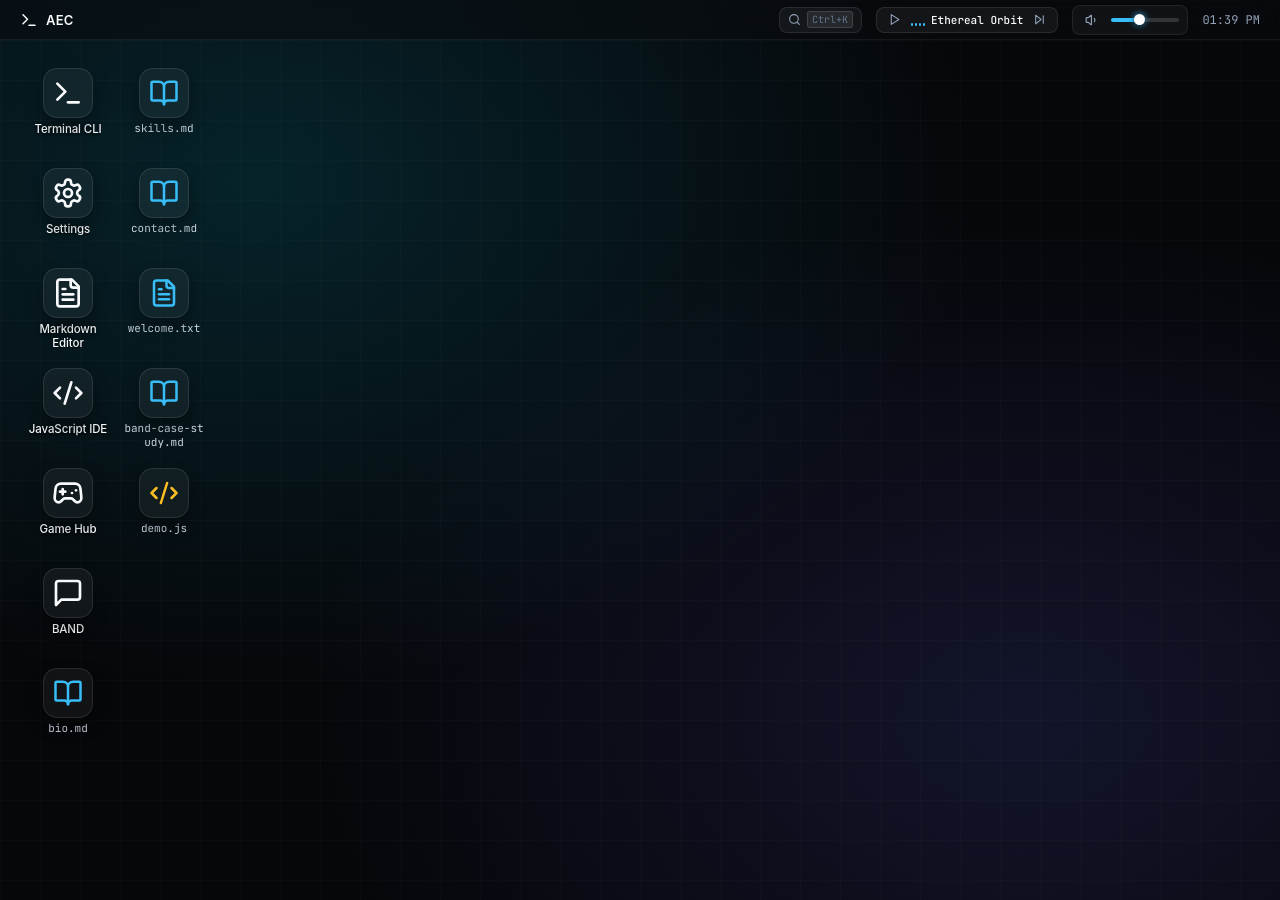
Desktop Component › should open context menu on right click and display Spatial Alert modal when attempting to delete protected system file
Right-click the button with test id "desktop-file-bio.md" at (68, 708), box [24,662,112,754]
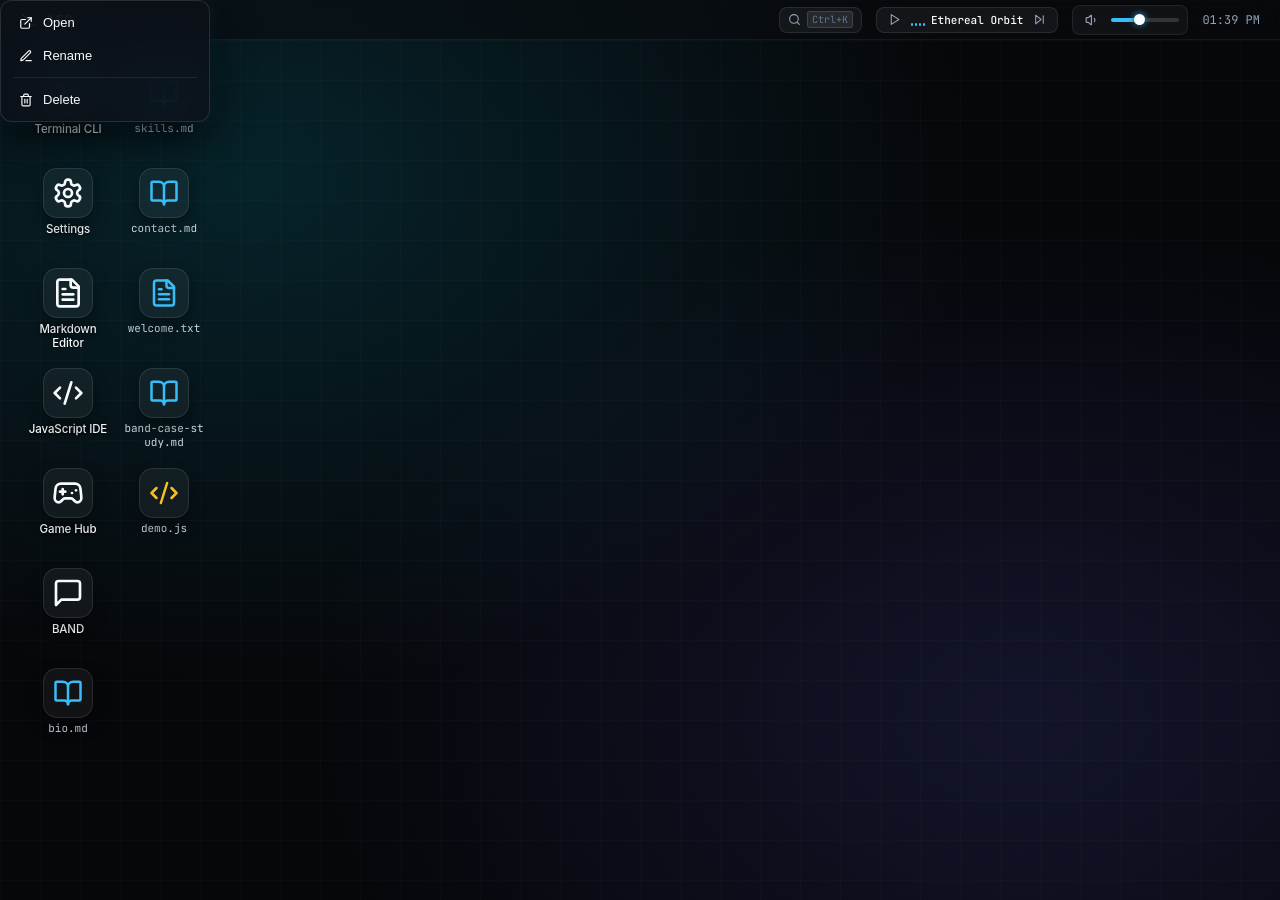
Result: the menu named "Desktop Context Menu" is shown at [0,0,210,122]
Result: the text "Delete" is shown at [43,92,81,107]
Click the menu item "Delete" at (105, 100), box [7,84,203,115]
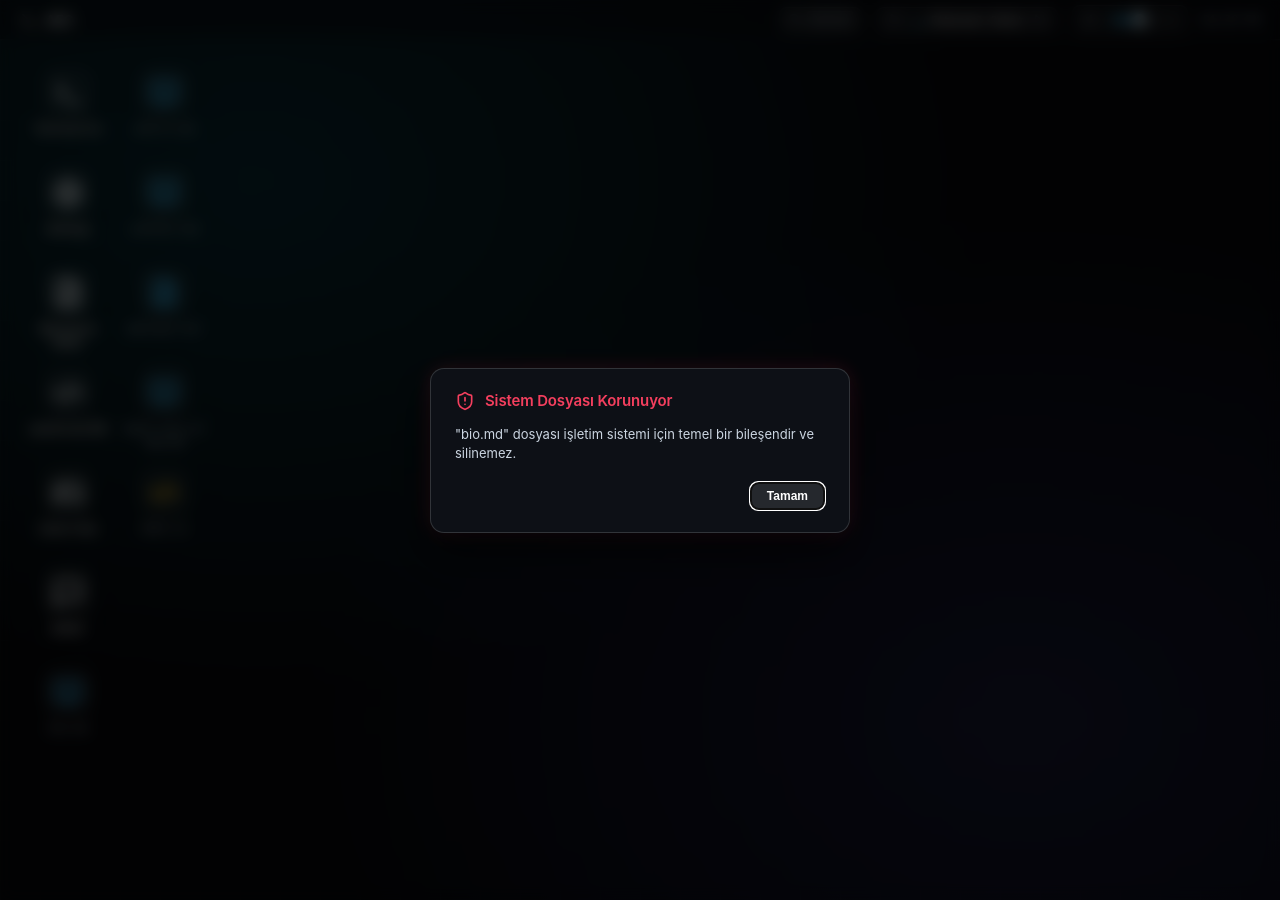
Result: the dialog is shown
Result: the heading "Sistem Dosyası Korunuyor" is shown at [485,391,672,410]
Result: the text "işletim sistemi için temel bir bileşendir" is shown at [455,426,814,461]
Click the button "Tamam" at (787, 496), box [750,482,825,510]
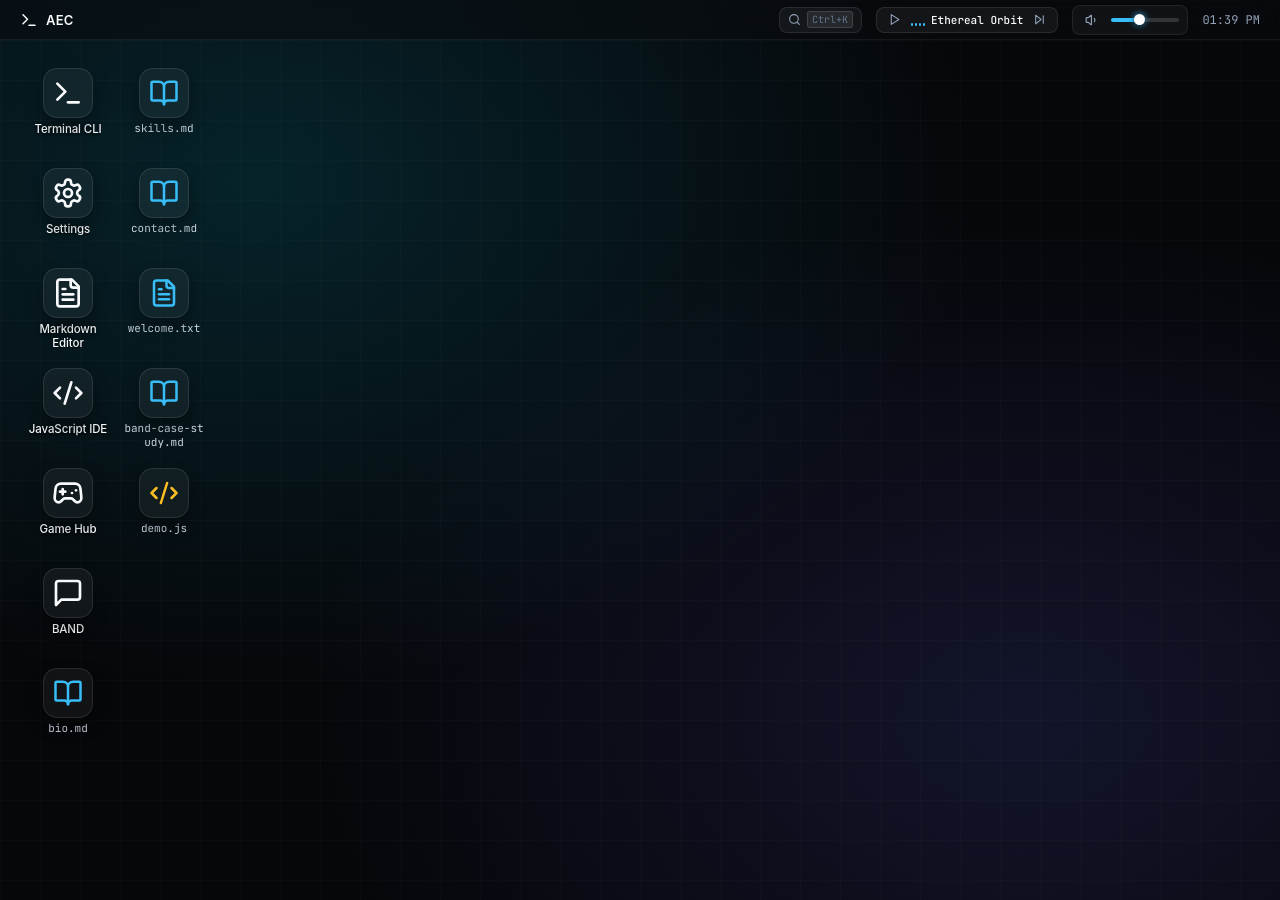
Result: the dialog is gone
